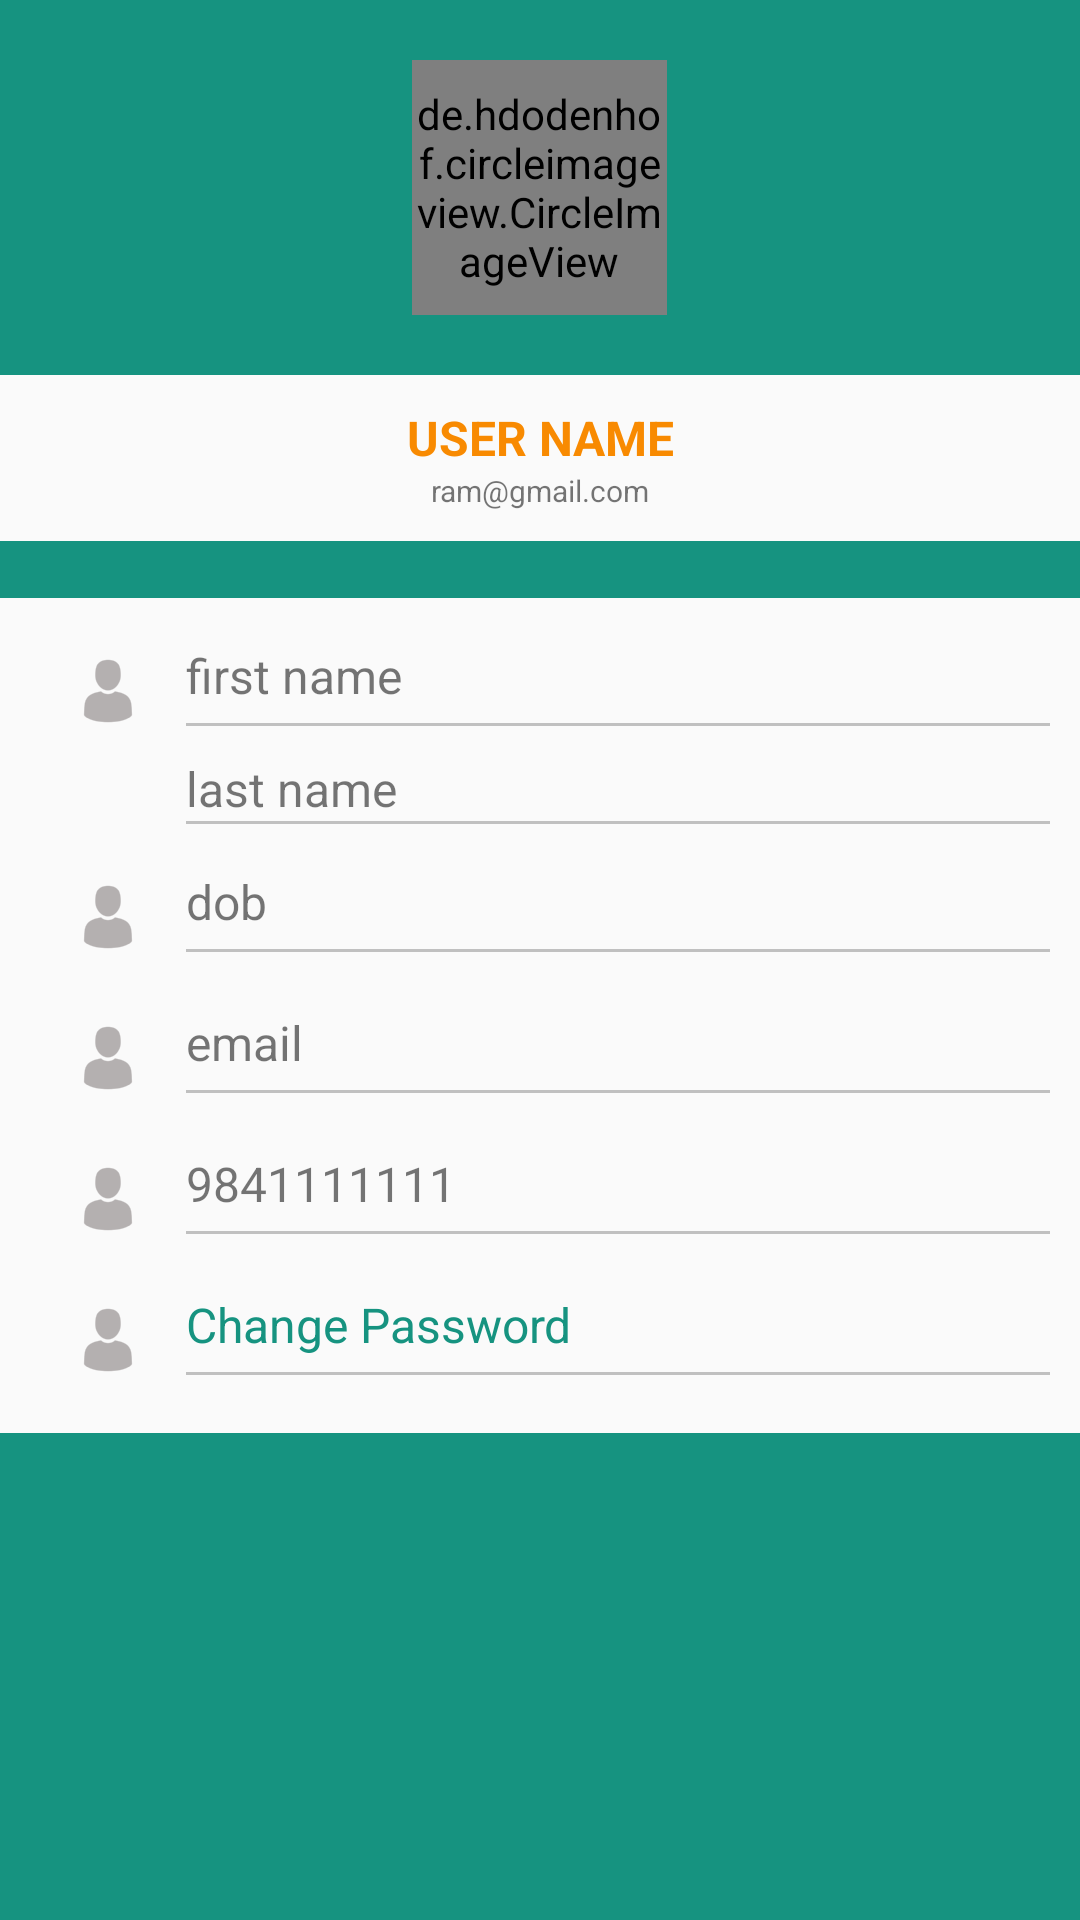

Where icons sit on this 1080w x 1920h app screen, as (x1=x1, y1=y1, x2=x2, y2=y2):
man user: (x1=84, y1=660, x2=132, y2=722), (x1=84, y1=886, x2=132, y2=948), (x1=84, y1=1027, x2=132, y2=1089), (x1=84, y1=1168, x2=132, y2=1230), (x1=84, y1=1309, x2=132, y2=1371)
